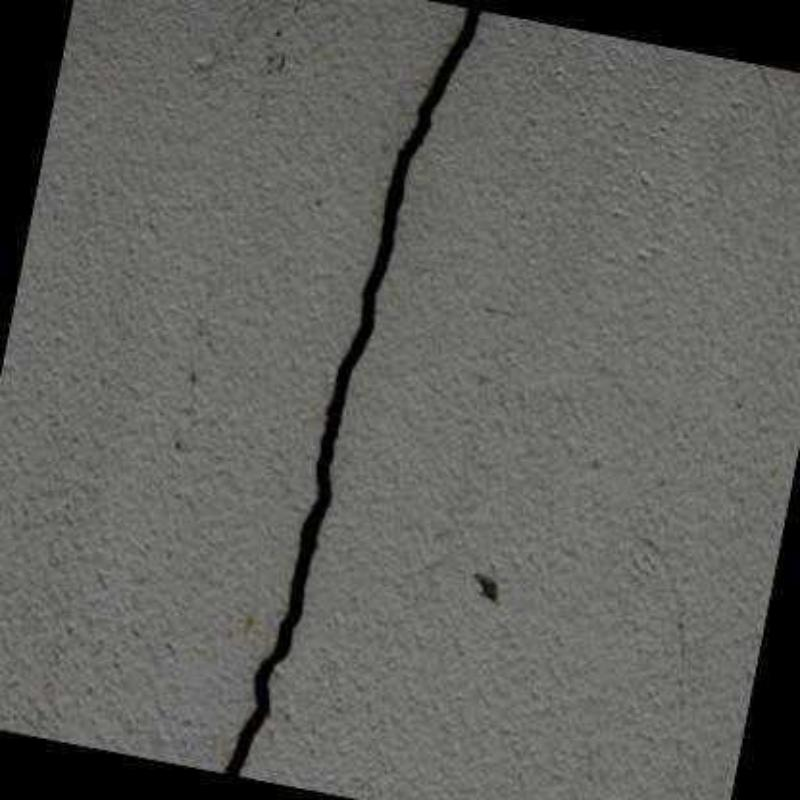pothole: (223, 6, 485, 777)
